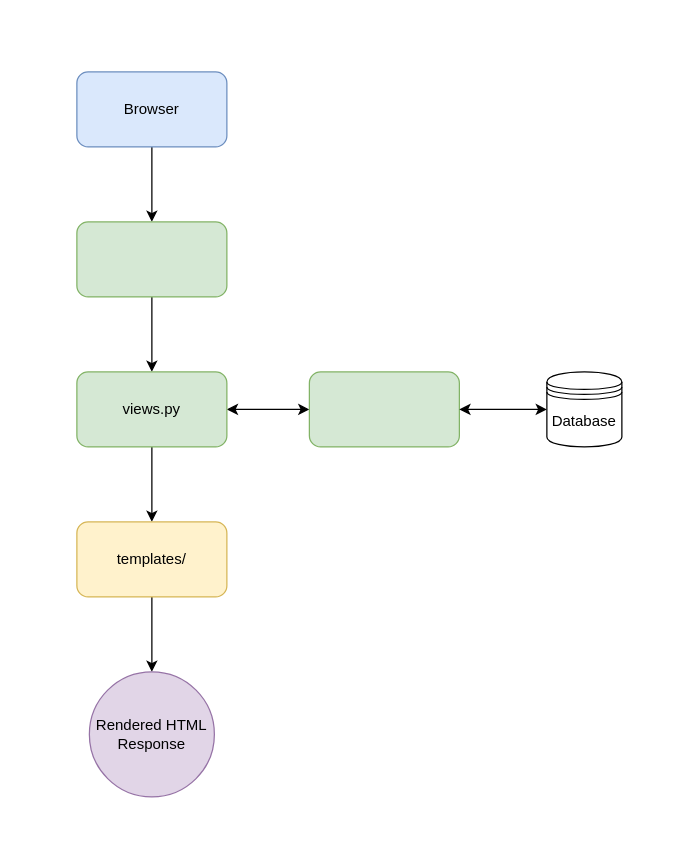
The diagram is 693 pixels wide and 868 high, and some of its shapes have lost their labels. The box of each missing label's shape, as (x1, y1, x2, y2) in pixels:
models.py: (308, 371, 459, 447)
urls.py: (76, 221, 227, 297)
